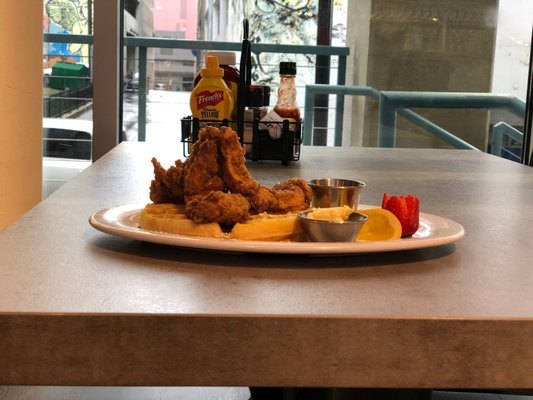sushi: (298, 207, 368, 242), (309, 177, 366, 210)
taco: (355, 207, 403, 242)
